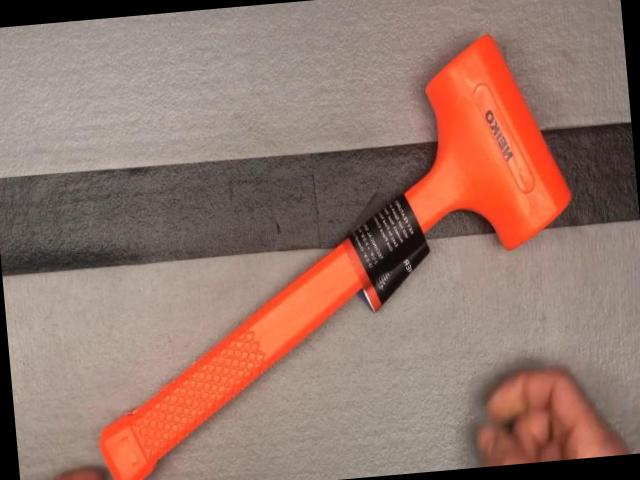hammer: (66, 29, 592, 480)
